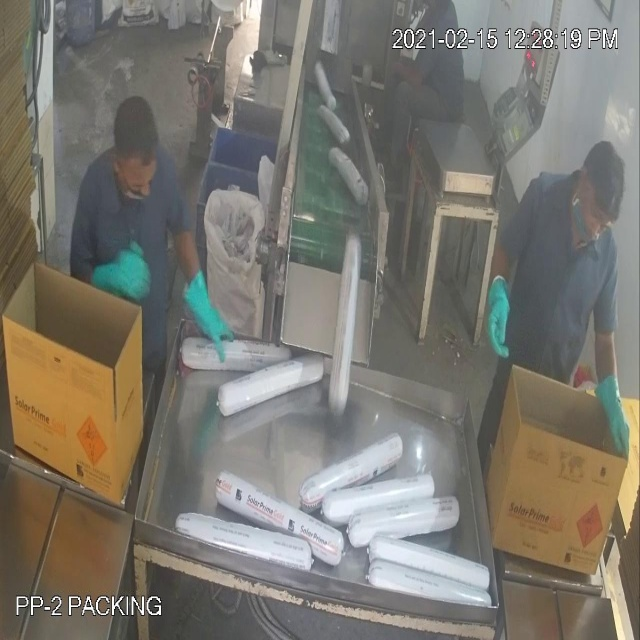Guantes: (170, 253, 254, 374), (84, 234, 164, 321), (592, 349, 639, 460), (481, 247, 520, 372)
Sin_guantes: (386, 49, 437, 95)
